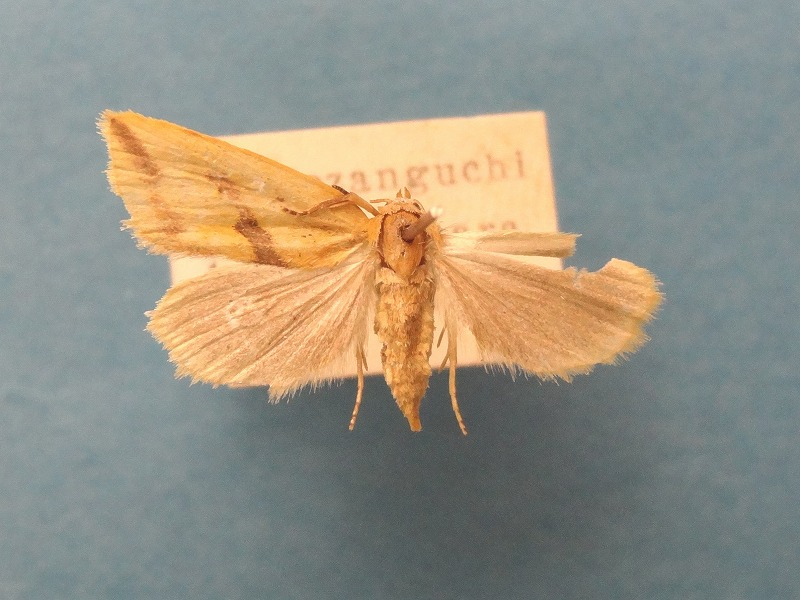Noctuidae: (94, 100, 667, 439)
